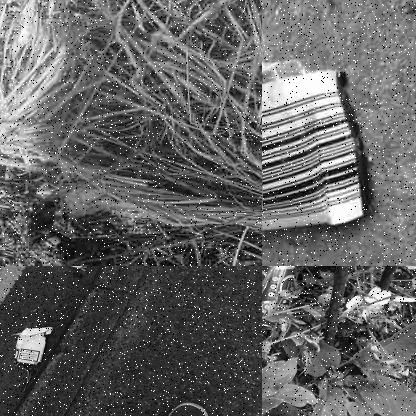metal: (262, 266, 300, 320), (61, 266, 105, 274)
plastic: (262, 52, 381, 245), (43, 175, 192, 237), (11, 329, 48, 366)
